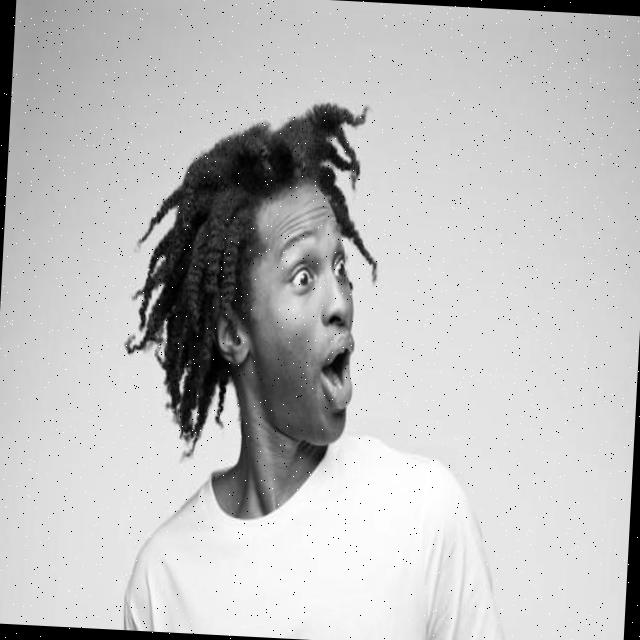Surprised: (237, 176, 366, 451)
